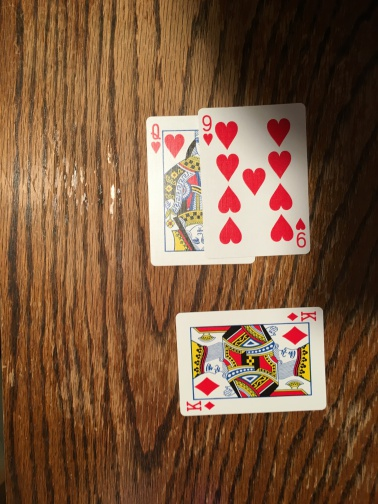king: (177, 305, 330, 416)
nine: (198, 101, 311, 255)
queen: (146, 116, 207, 265)
